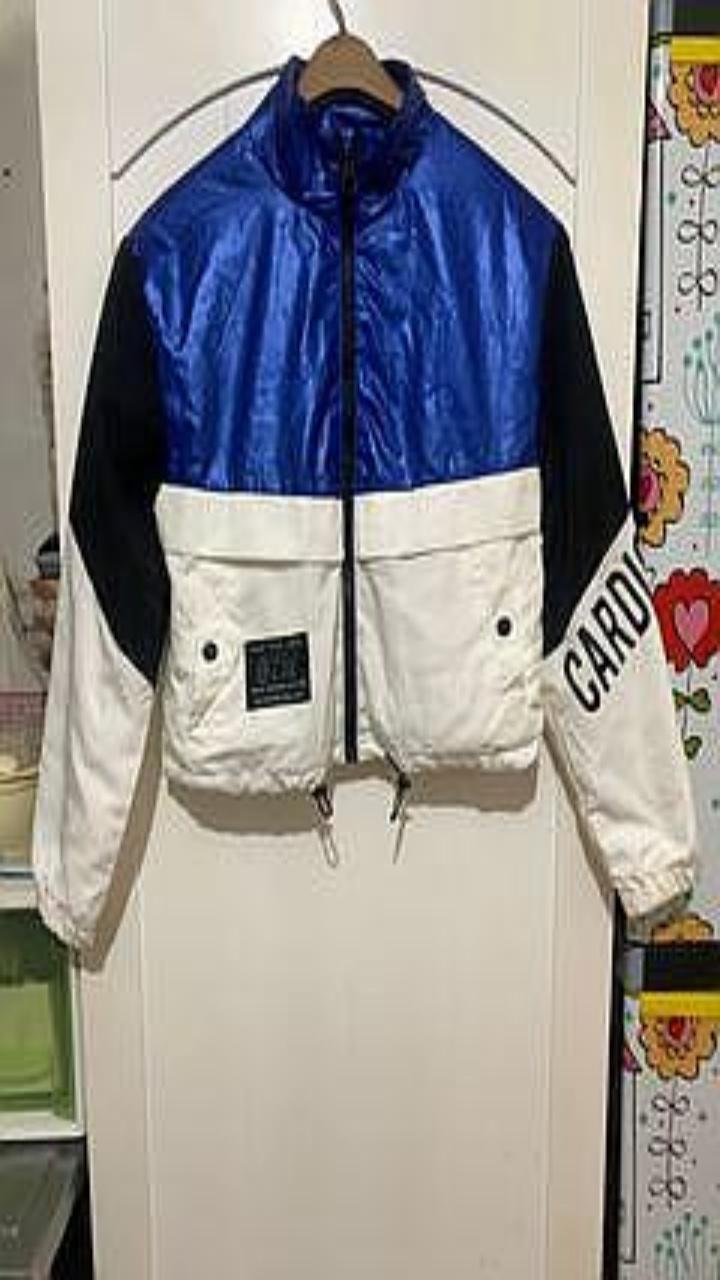Sports_Jacket: (33, 58, 693, 945)
